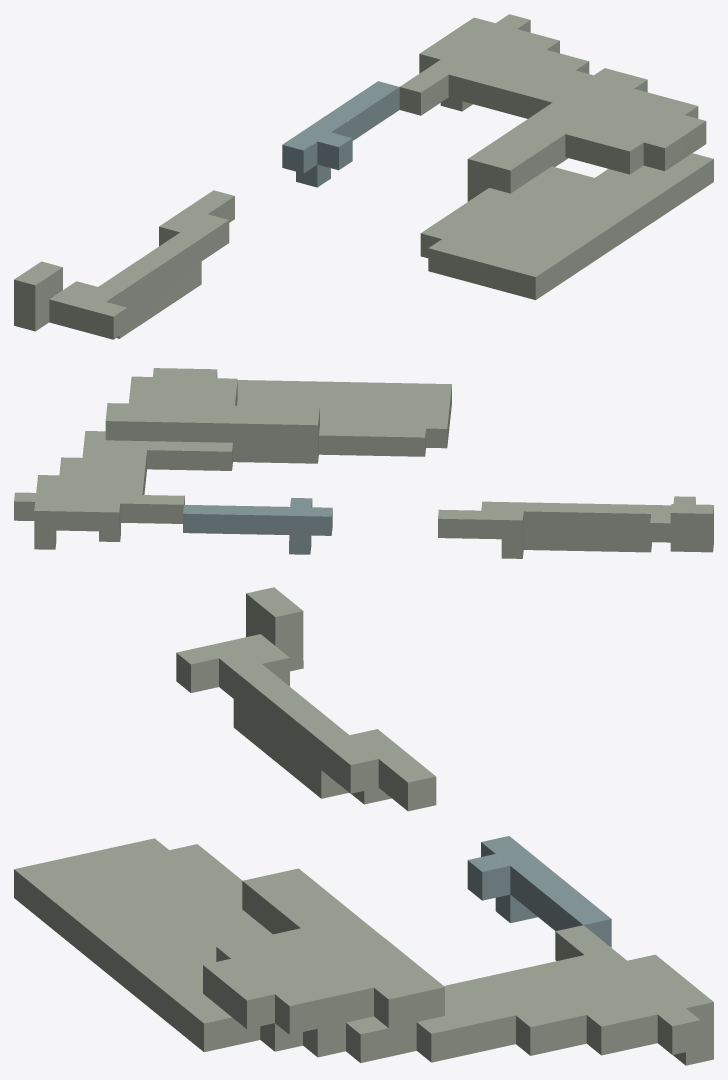
3 renders of one model, top to bottom at view 1: azimuth 30°, elevation 25°; view 2: azimuth 150°, elevation 25°; view 3: azimuth 270°, elevation 25°, orthographic. The views are drawn at different scales.
Parts seen in each view (by area): view 1: measured-industrial; view 2: measured-industrial; view 3: measured-industrial.
Boxes of the visible parts, box(x1,y1,x2,y2) form: measured-industrial: box(14, 14, 713, 339); measured-industrial: box(14, 368, 713, 558); measured-industrial: box(14, 587, 713, 1065).
Bounding box in the file's own units: 46.96 × 4.53 × 33.11.
